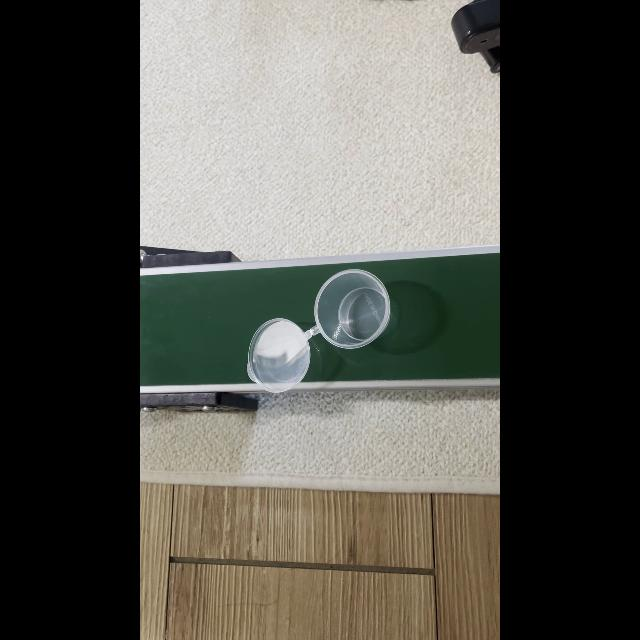clean: (245, 270, 391, 392)
